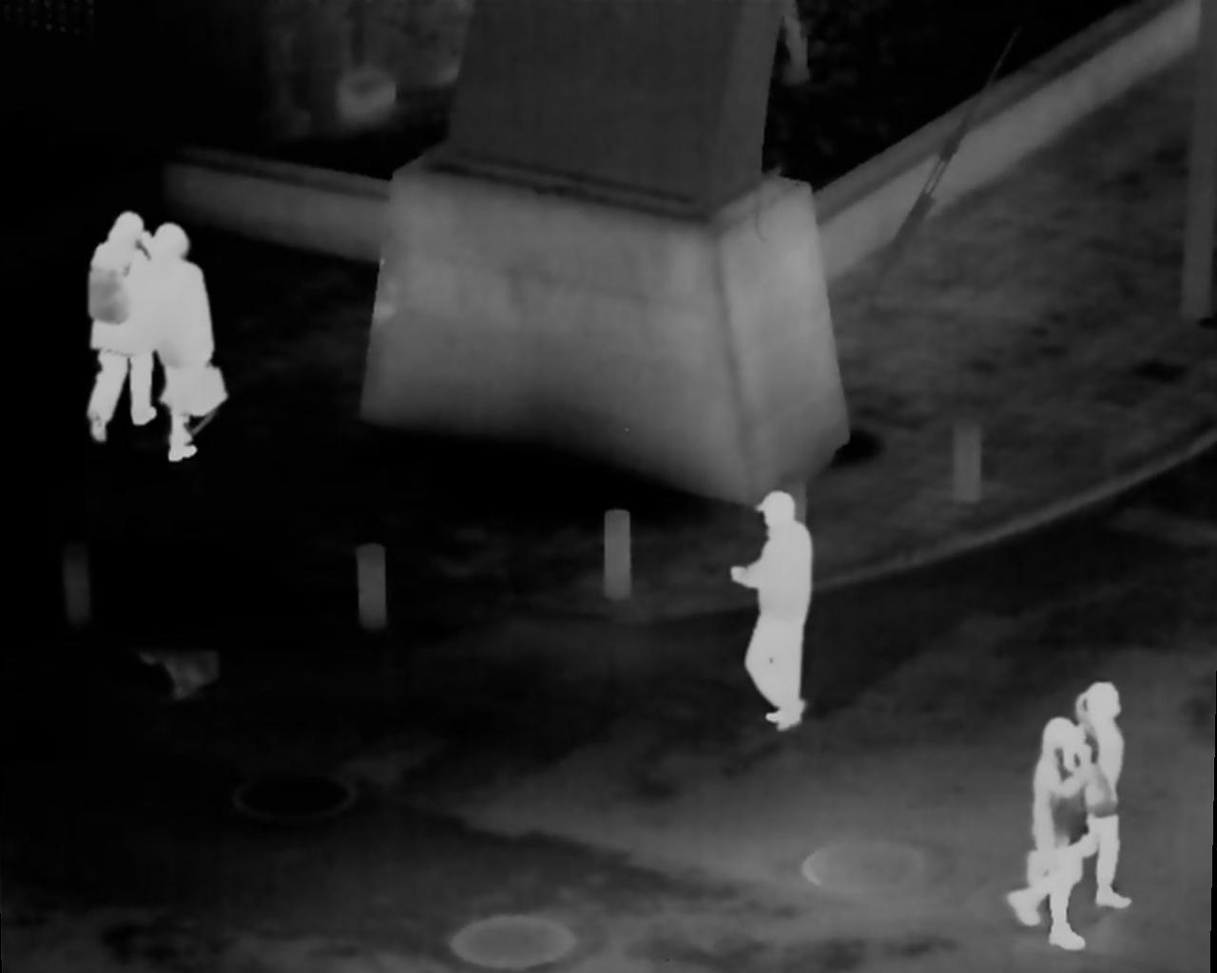person: (1008, 716, 1096, 958), (731, 496, 820, 725), (80, 213, 156, 440), (153, 219, 219, 464), (1074, 682, 1130, 906)
